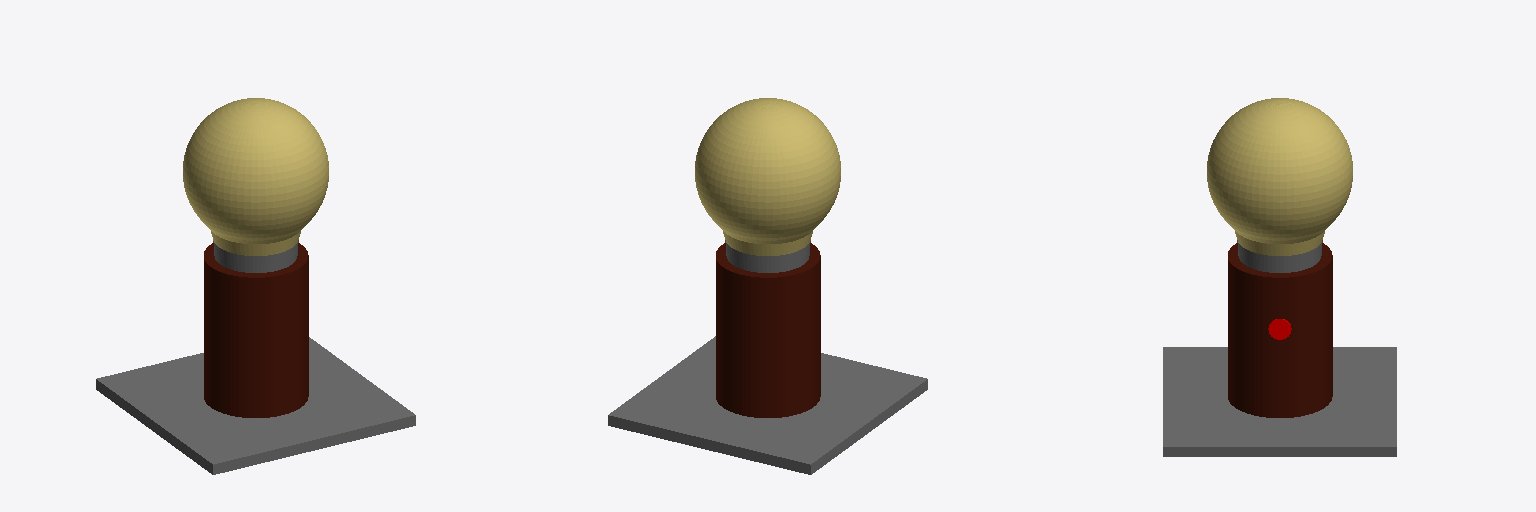
The model's file is Lamp.obj.
3 views of the same model, side by side, from view 1: azimuth 30°, elevation 25°; view 2: azimuth 150°, elevation 25°; view 3: azimuth 270°, elevation 25° (orthographic).
Parts seen in each view (by area): view 1: Sphere, Cube, Cylinder; view 2: Sphere, Cube, Cylinder; view 3: Sphere, Cube, Cylinder.
Part boxes in pixels (x1,y1,x2,y2): Sphere: (183, 98, 328, 272); Cube: (96, 337, 415, 474); Cylinder: (204, 243, 308, 417); Sphere: (695, 98, 840, 272); Cube: (608, 336, 927, 474); Cylinder: (716, 243, 820, 417); Sphere: (1207, 98, 1352, 272); Cube: (1163, 347, 1396, 456); Cylinder: (1228, 243, 1332, 417).
Bounding box in the file's own units: 12.24 × 17.47 × 12.24.